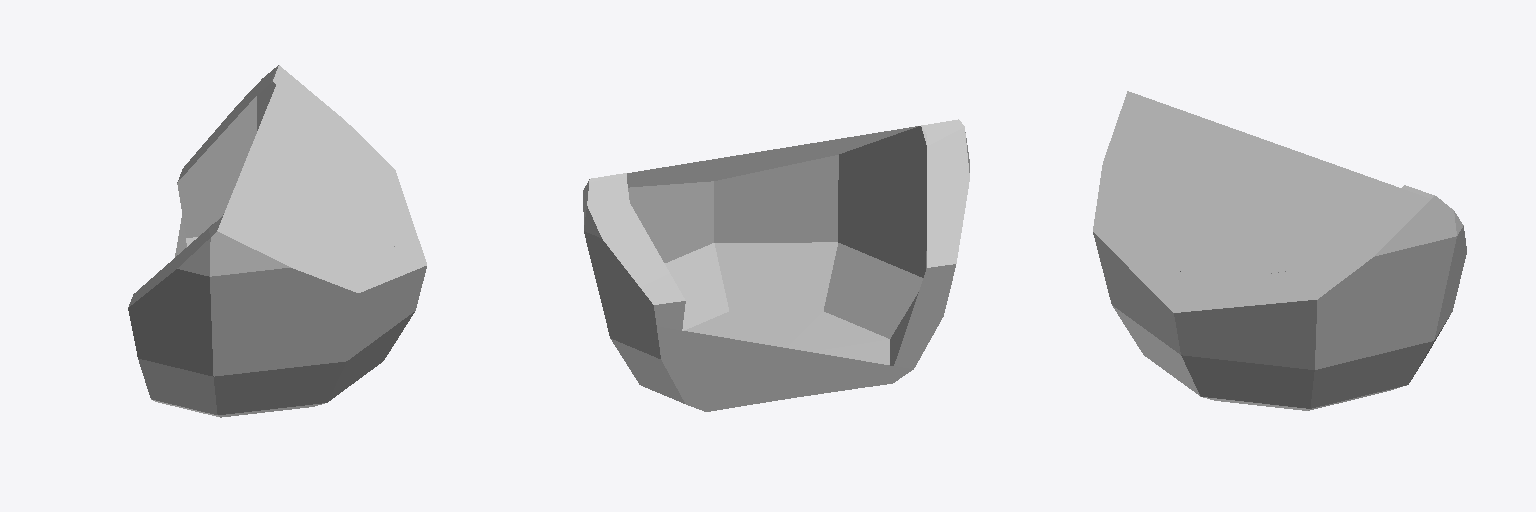
File: vase_1_debris_005.obj
3 renders of one model, left to right at view 1: azimuth 30°, elevation 25°; view 2: azimuth 150°, elevation 25°; view 3: azimuth 270°, elevation 25°, orthographic.
Visible parts, largest first — view 1: mug_3.005_cell.004_Mesh.005; view 2: mug_3.005_cell.004_Mesh.005; view 3: mug_3.005_cell.004_Mesh.005.
Part boxes in pixels (x1,y1,x2,y2): mug_3.005_cell.004_Mesh.005: (128,65,426,417); mug_3.005_cell.004_Mesh.005: (583,119,969,411); mug_3.005_cell.004_Mesh.005: (1093,91,1466,410).
Size of the model in its own units: 0.5019 by 0.3318 by 0.5141.